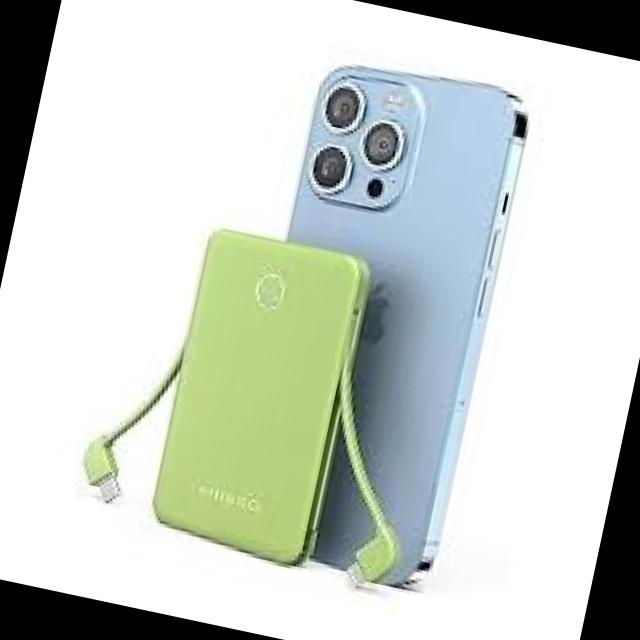portable-charger: (144, 226, 378, 573)
